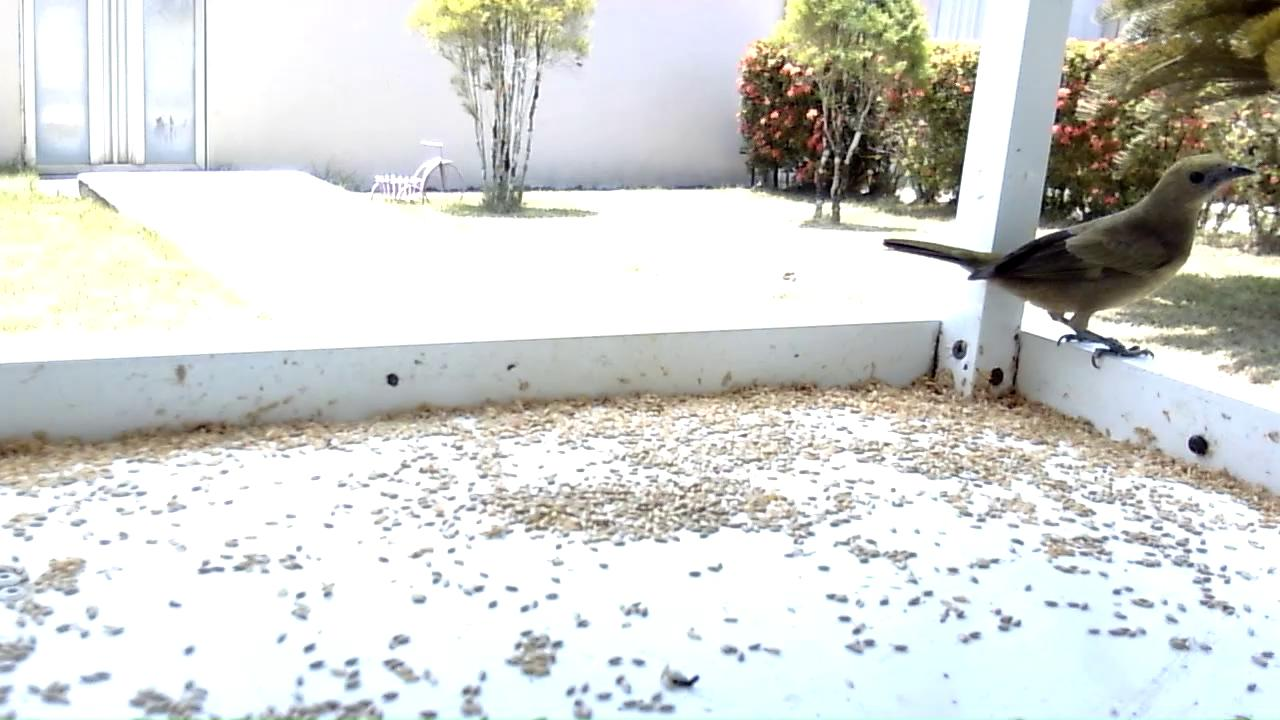sanhaco_do_coqueiro: (880, 152, 1261, 373)
